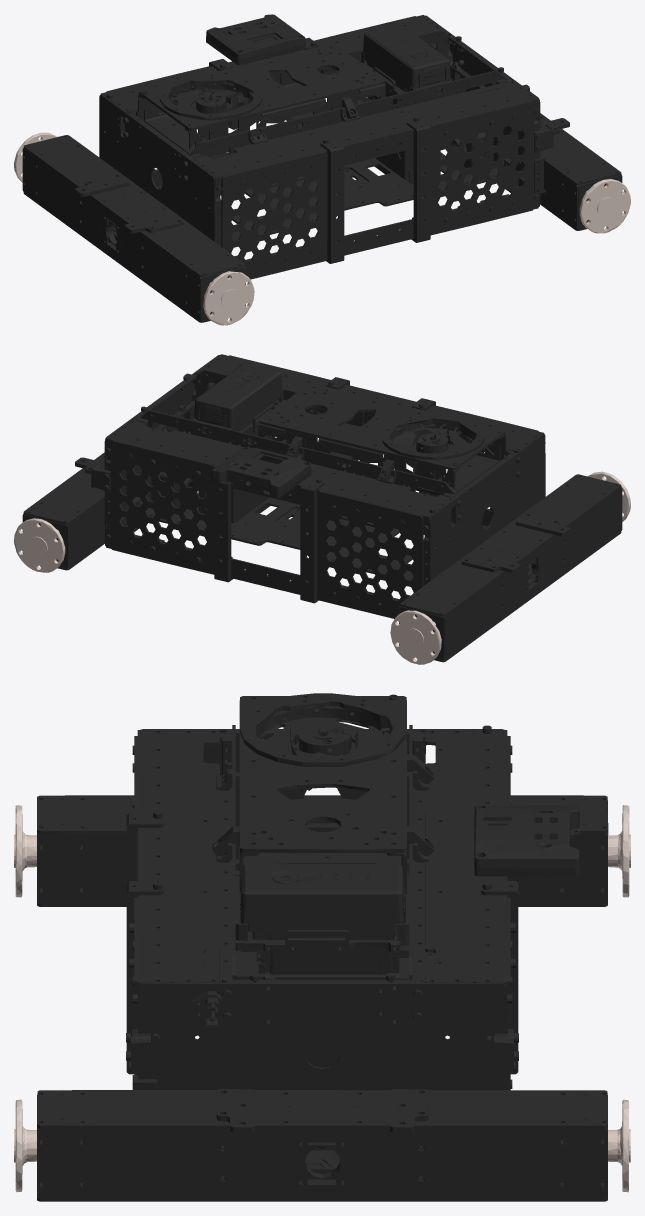
File: chassis_base_lowered.dae
The picture shows the model from 3 angles, top to bottom: view 1: azimuth 30°, elevation 25°; view 2: azimuth 150°, elevation 25°; view 3: azimuth 270°, elevation 25°; orthographic projection. The views are drawn at different scales.
Parts seen in each view (by area): view 1: chassis; view 2: chassis; view 3: chassis.
Boxes of the visible parts, bbox=[...] form: chassis: bbox=[14, 14, 630, 325]; chassis: bbox=[14, 354, 630, 664]; chassis: bbox=[14, 693, 630, 1201].
Size of the model in its own units: 0.4848 by 0.3672 by 0.1516.
